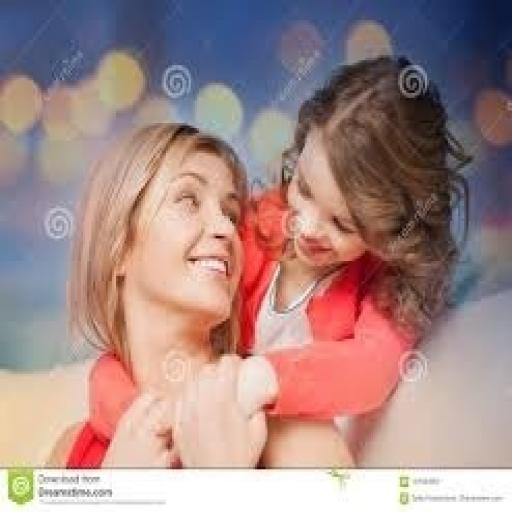hugging: (232, 53, 473, 467), (46, 118, 278, 469)
